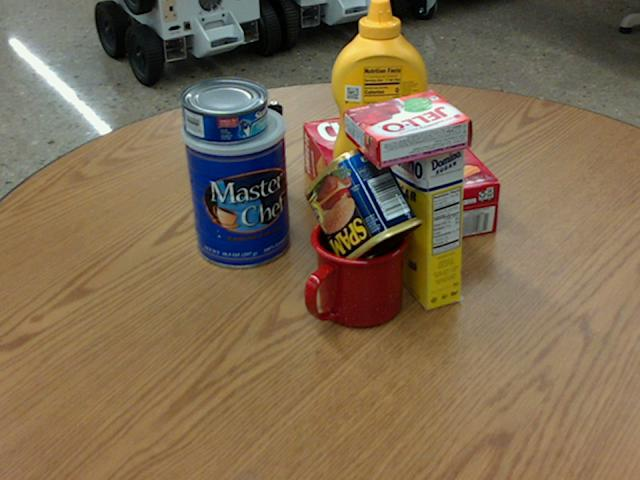cracker_box: (301, 103, 497, 256)
gelatin_box: (344, 89, 471, 167)
large_marker: (265, 103, 286, 203)
master_chef_can: (181, 102, 291, 267)
mug: (301, 211, 408, 329)
mustard_bottle: (331, 0, 426, 189)
potted_meat_can: (303, 144, 423, 271)
sugar_box: (381, 103, 463, 311)
tomato_soup_can: (346, 39, 406, 145)
tuna_fish_can: (178, 77, 267, 142)
